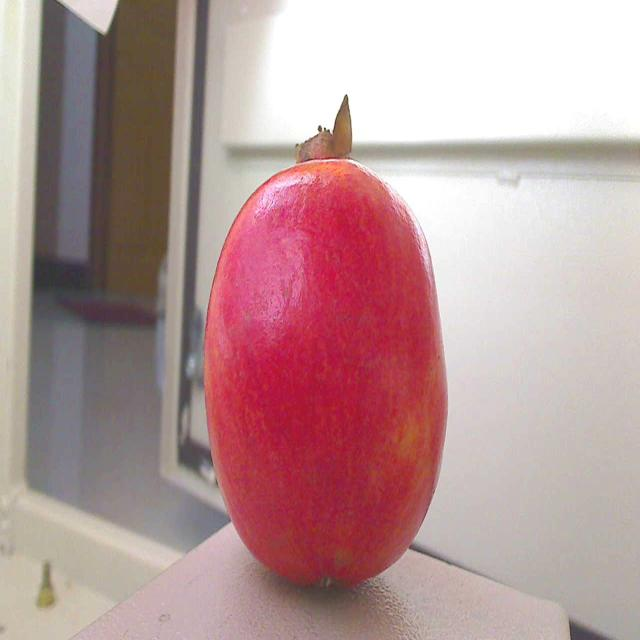pomegranate: (196, 114, 460, 606)
